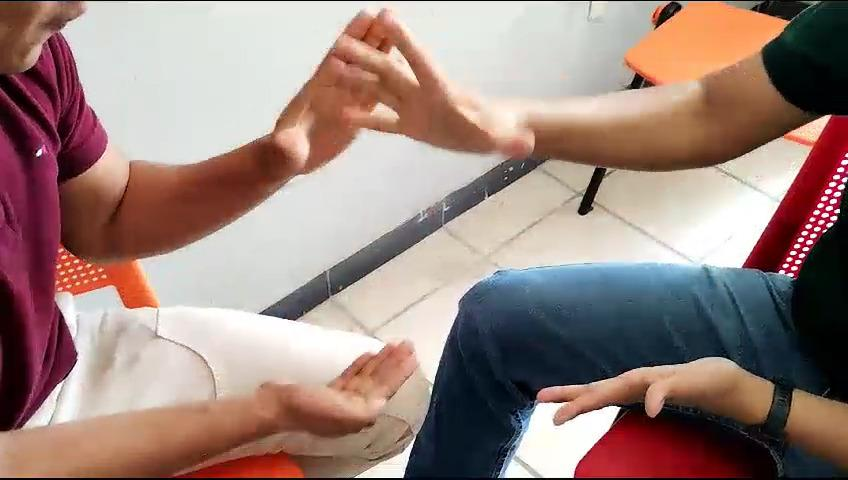Paper: (323, 8, 545, 172), (245, 4, 415, 201)
